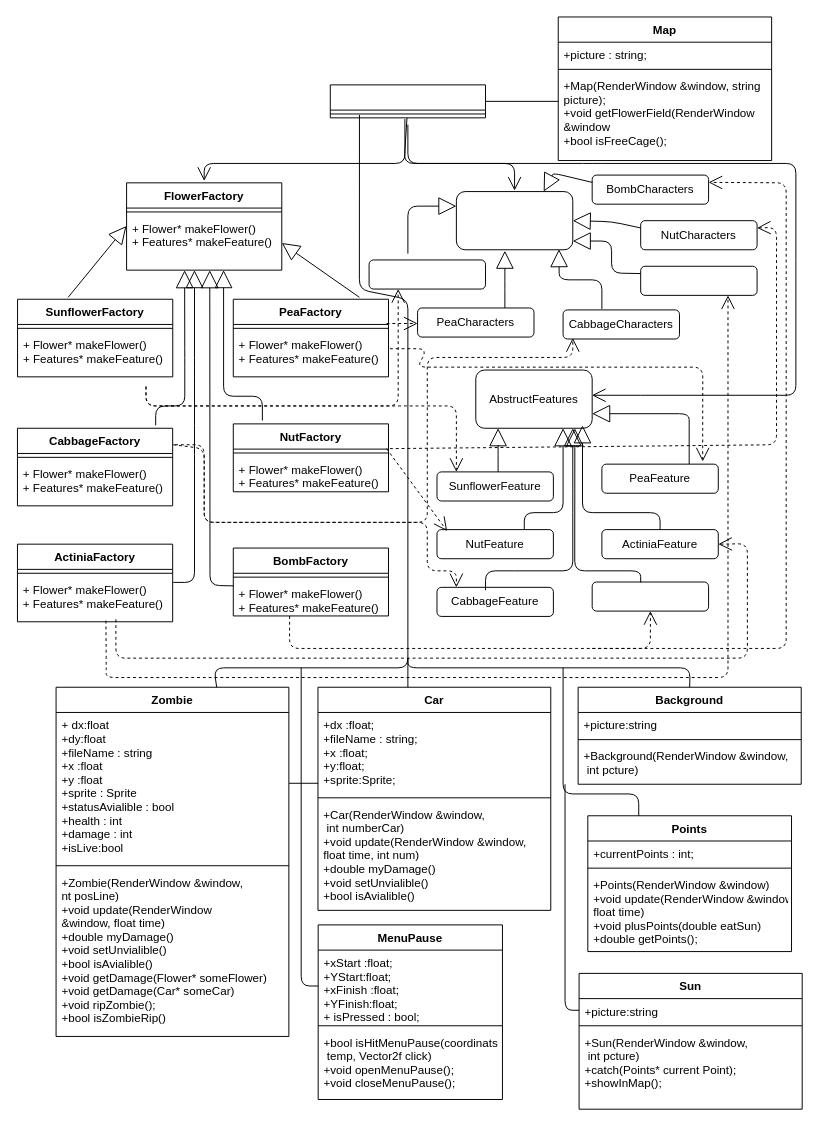
Some shapes in this 826 by 1129 pixel diagram are drawn without their labels. The shapes that lost their labels are listed below. From the top down, each one's centre as x and y in pixels, then its label:
the point at 407,101: MainRender
the point at 514,220: AbstractFlowParams
the point at 426,274: SunflowerCharacters
the point at 698,280: ActiniaCharacters
the point at 650,596: BombFeature
